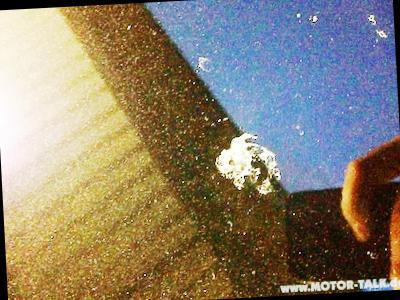Bird Poop: (215, 133, 280, 194)
